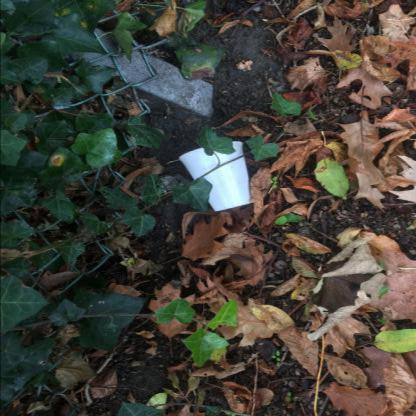Cup: (203, 141, 252, 211), (178, 148, 218, 181)
